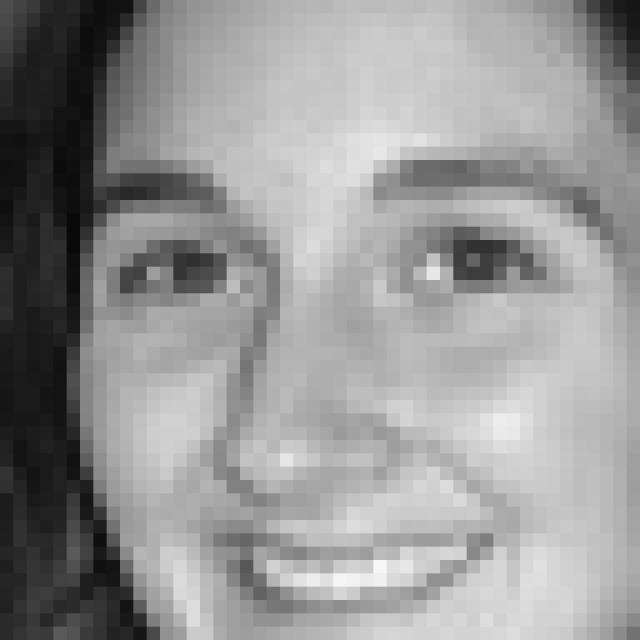happy: (92, 152, 614, 640)
